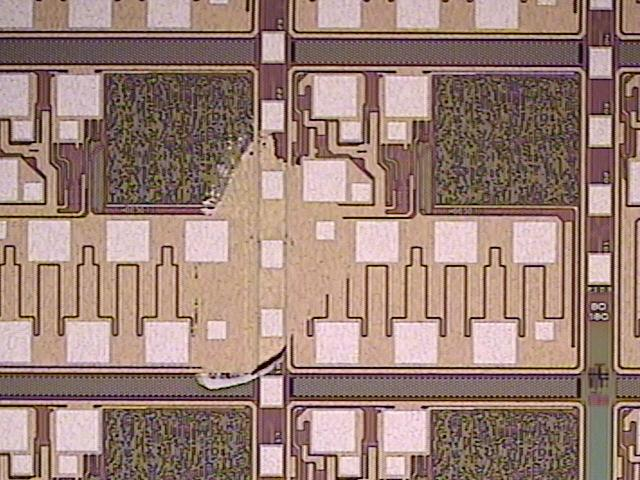BLOCK ETCH: (181, 127, 374, 391)
